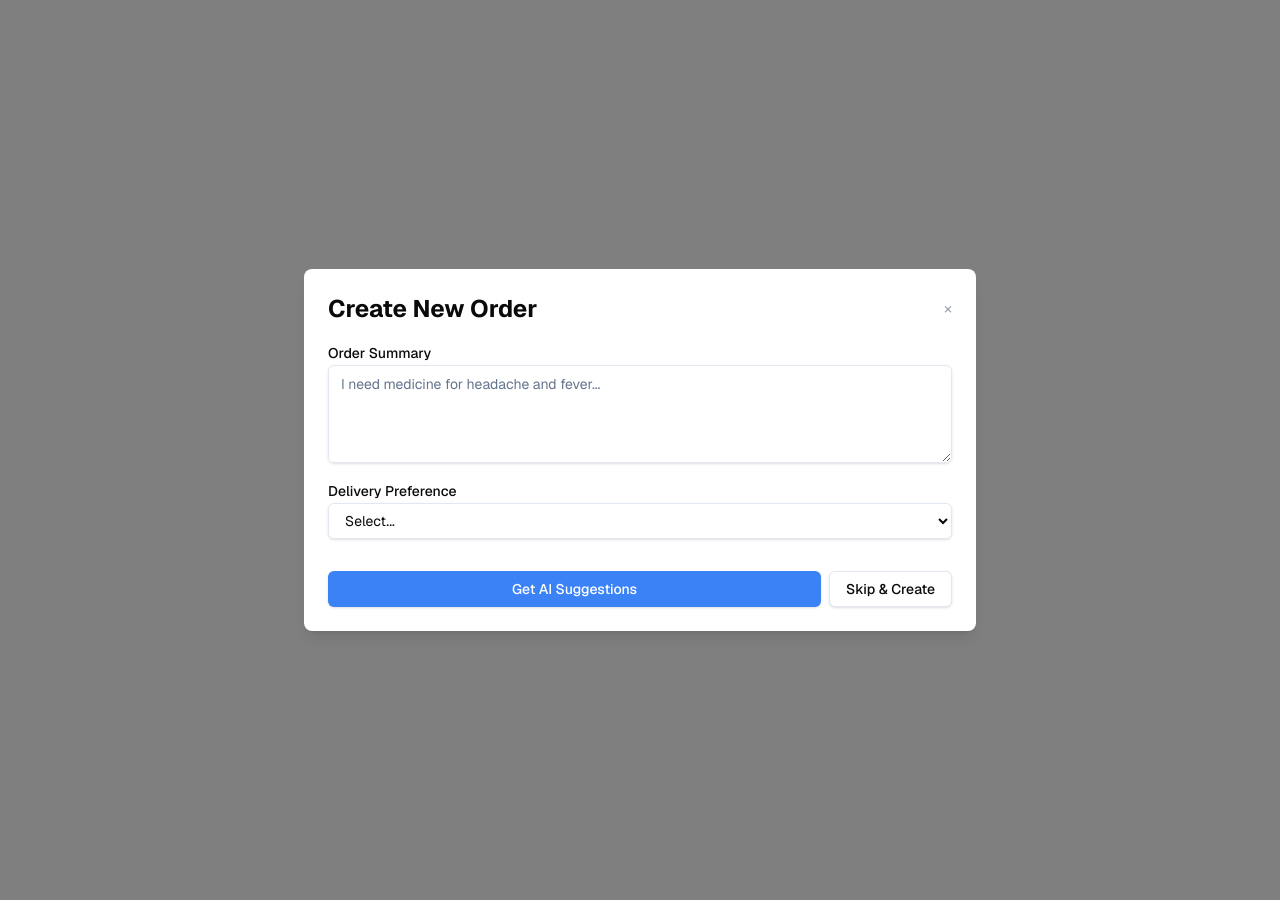
Test case: Conditional Fields - CreateOrderDialog › should show delivery address field when DELIVERY is selected
The image size is (1280, 900).
Select "Home Delivery" in the dropdown labelled "Delivery Preference" at point(640, 521), box x1=328 y1=503 x2=952 y2=539
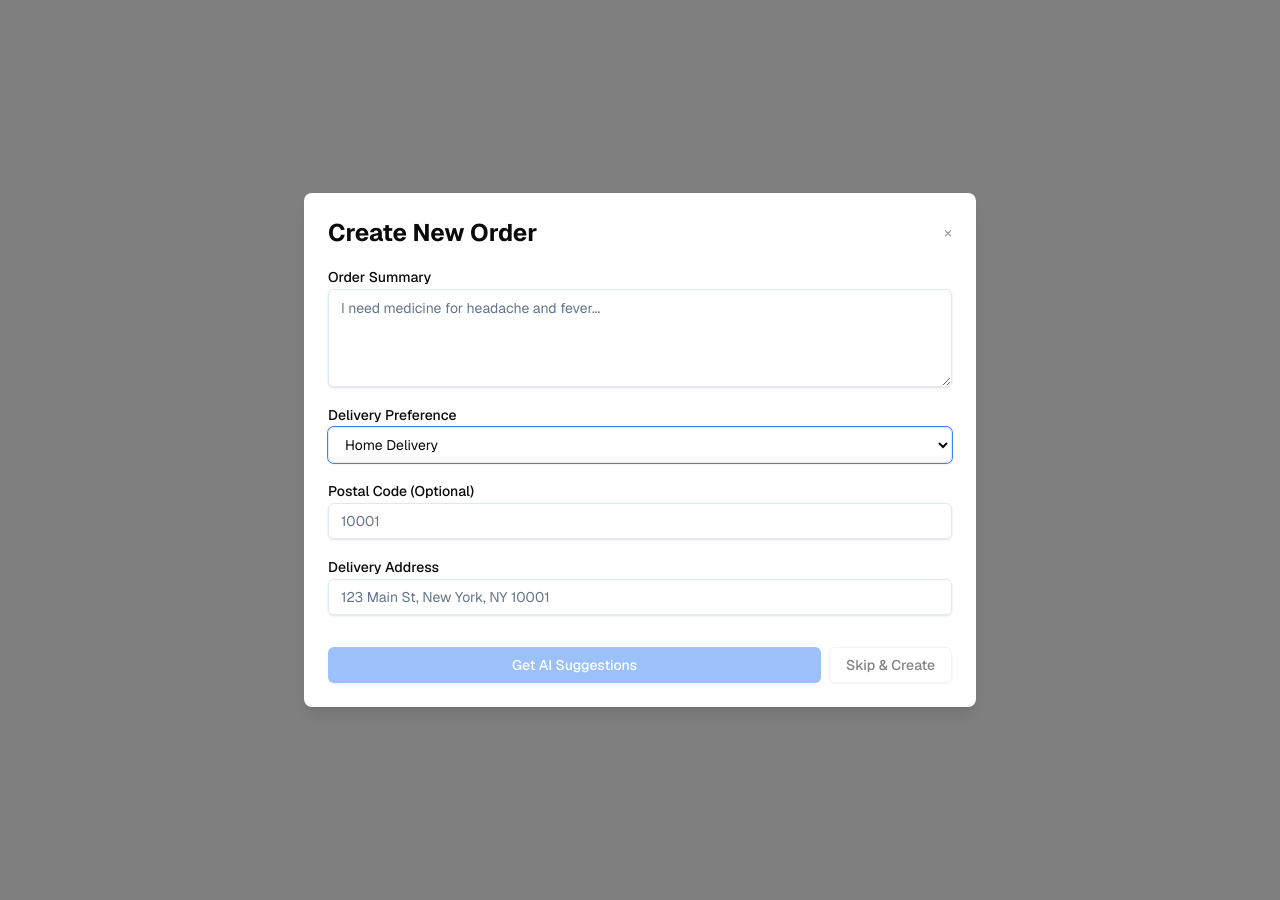
expect the field labelled "Delivery Address" is shown: met, box x1=328 y1=579 x2=952 y2=615
